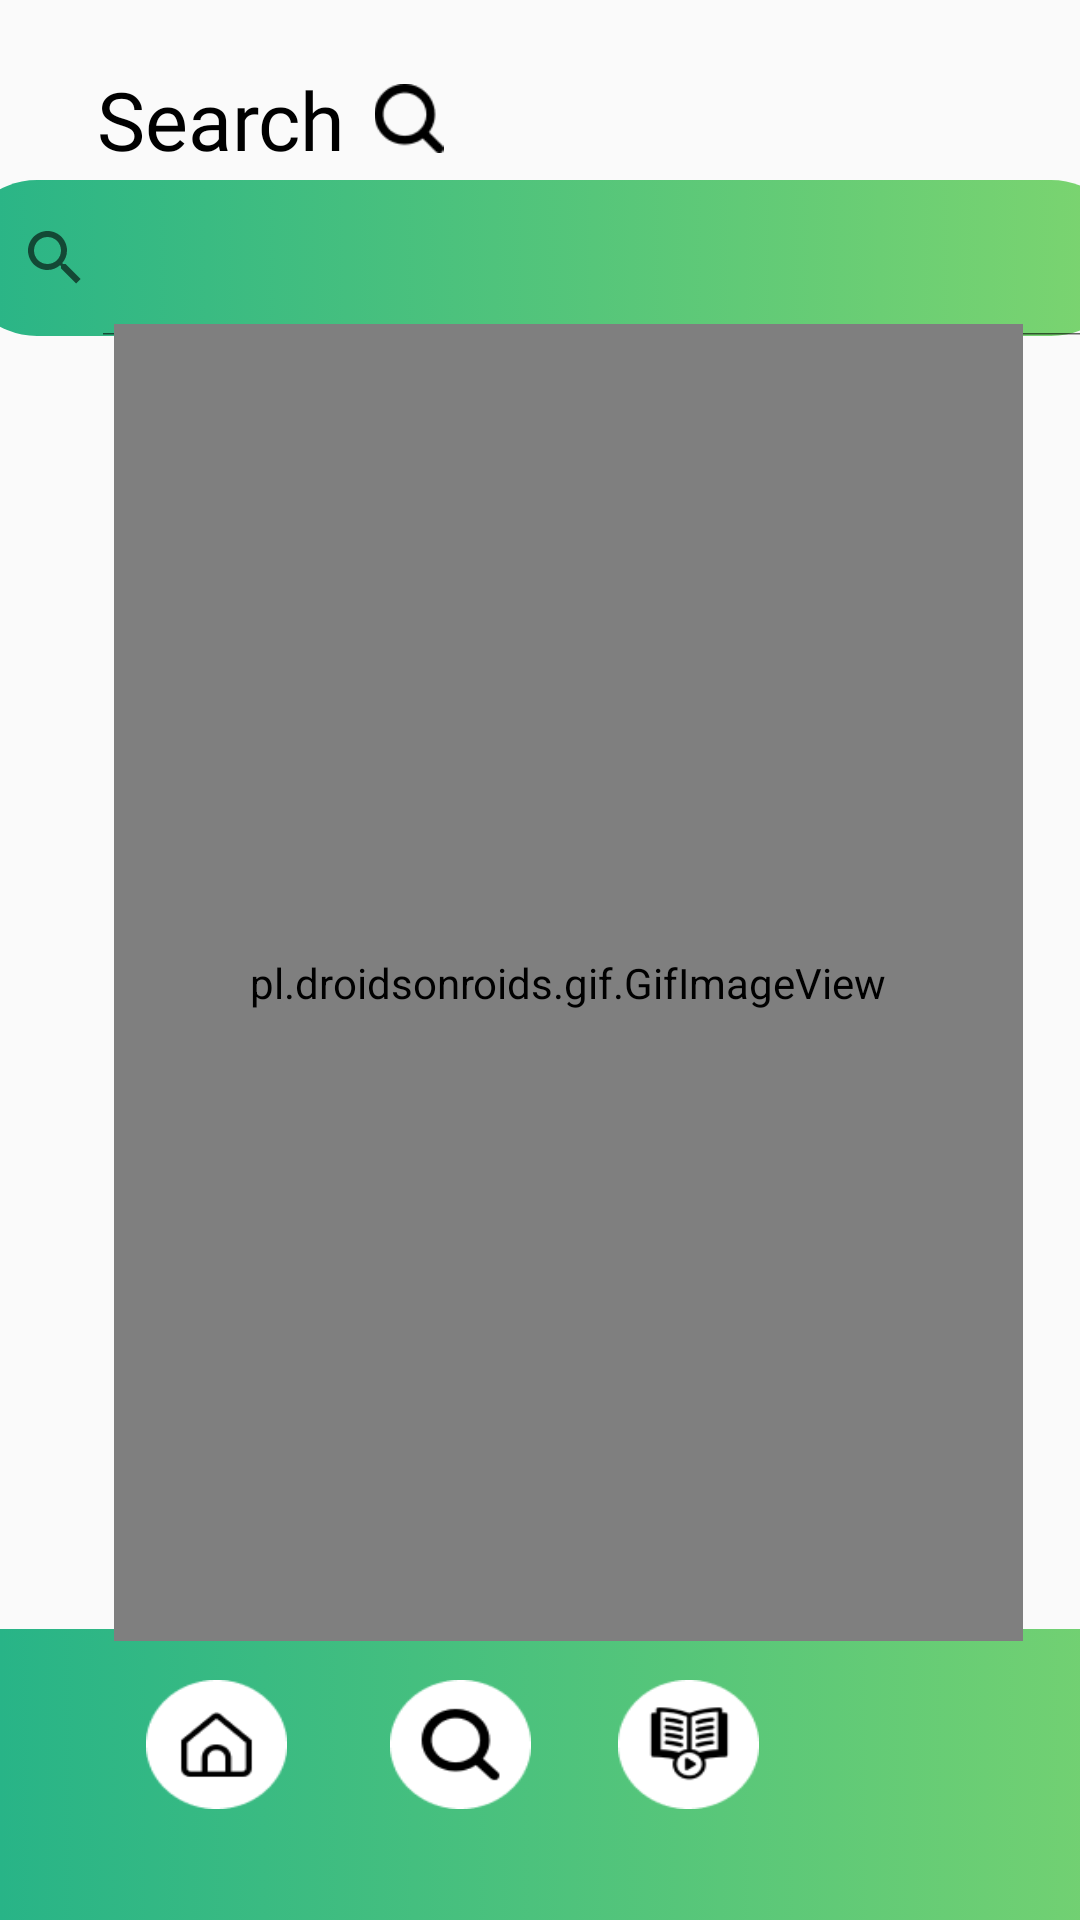

Point at icon controls on the screen. Image size 1080px x 1920px, points as [x,y].
coursesbutton: [688,1744]
homebutton: [216,1744]
searchbutton: [460,1744]
